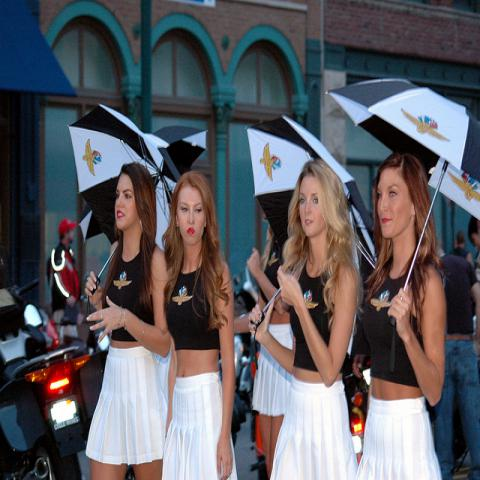motorcycle: (3, 301, 91, 479), (233, 266, 261, 414)
